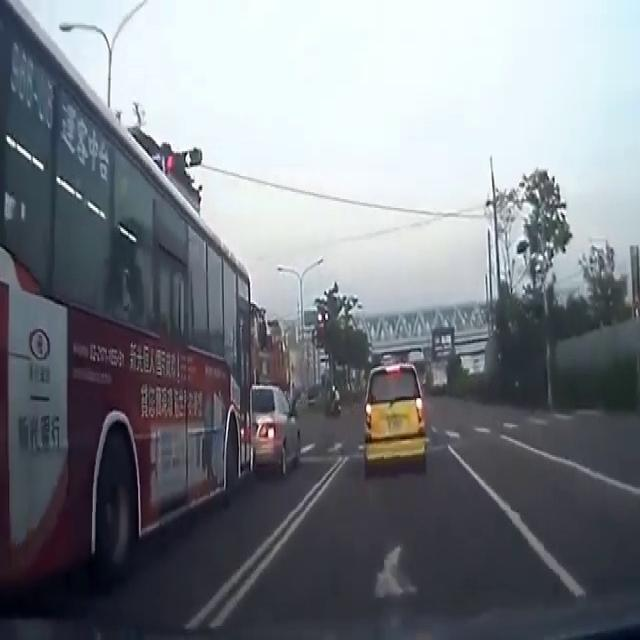moderate: (0, 0, 311, 640)
